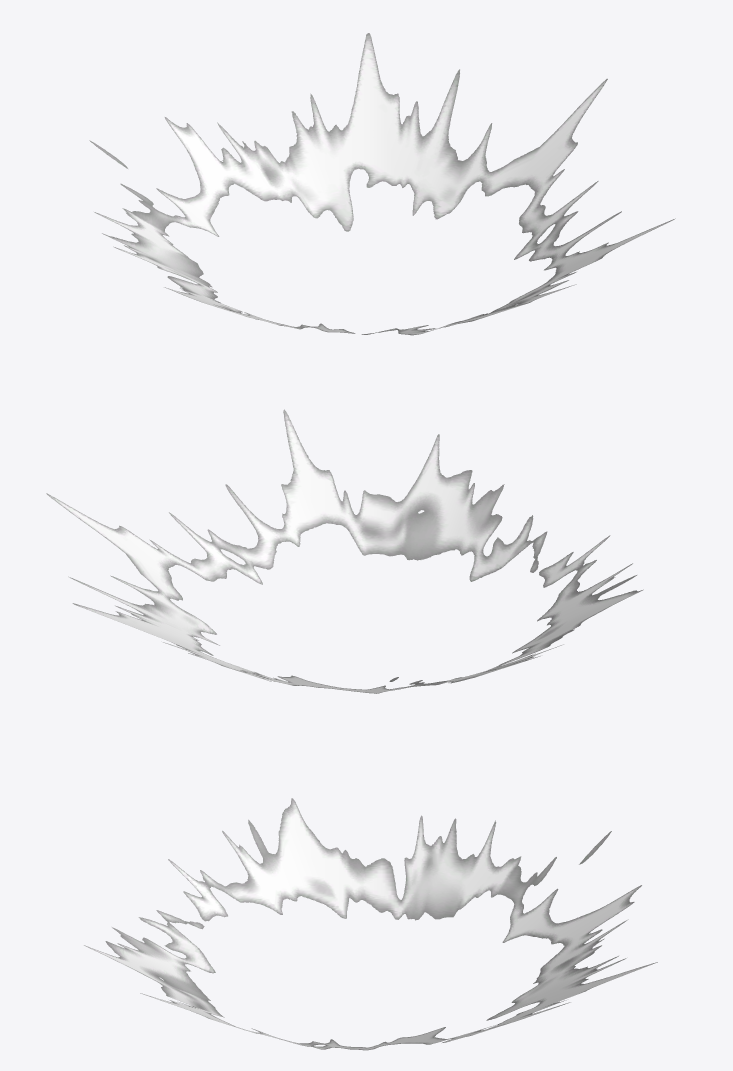
The model's file is huan_1119_a.FBX.
3 renders of one model, top to bottom at view 1: azimuth 30°, elevation 25°; view 2: azimuth 150°, elevation 25°; view 3: azimuth 270°, elevation 25°, orthographic.
Visible parts, largest first — view 1: Cylinder001; view 2: Cylinder001; view 3: Cylinder001.
Part boxes in pixels (box(x1,y1,x2,y2)): Cylinder001: box(89, 33, 675, 335); Cylinder001: box(46, 409, 643, 693); Cylinder001: box(84, 798, 657, 1050).
Size of the model in its own units: 6.61 by 6.51 by 1.3.
